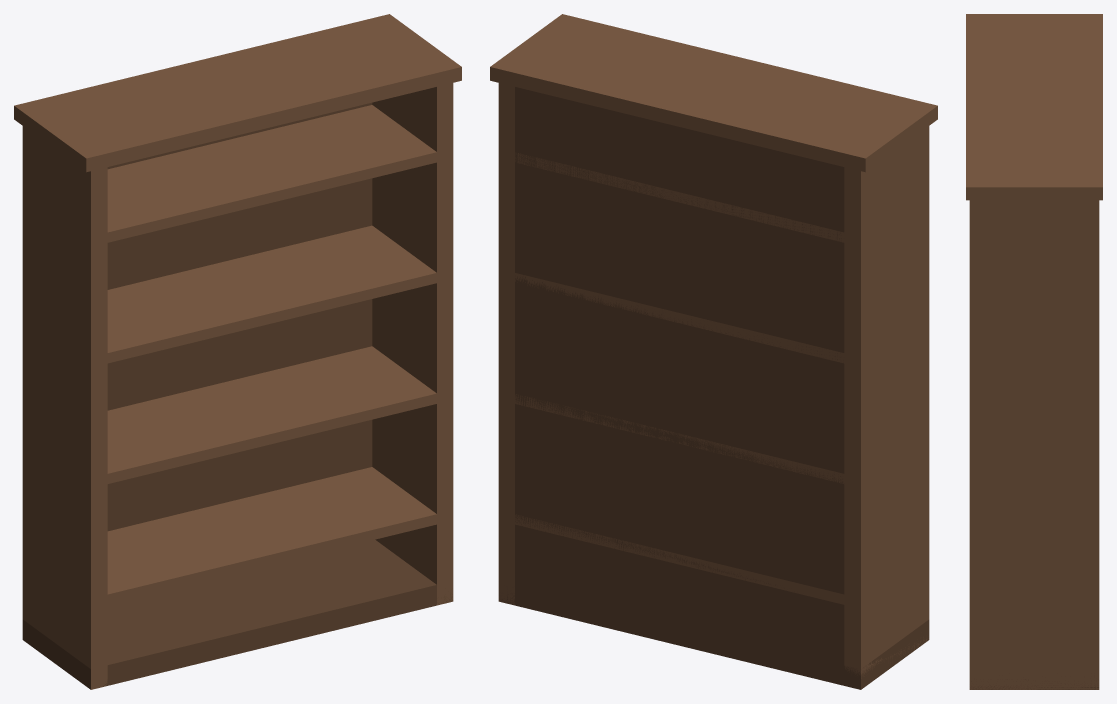
Rendered from cab_weapon_rack.glb.
3 views of the same model, side by side, from view 1: azimuth 30°, elevation 25°; view 2: azimuth 150°, elevation 25°; view 3: azimuth 270°, elevation 25° (orthographic). The views are drawn at different scales.
Parts seen in each view (by area): view 1: cab_weapon_rack; view 2: cab_weapon_rack; view 3: cab_weapon_rack.
Boxes of the visible parts, left/top/right/bottom form: cab_weapon_rack: left=14, top=14, right=461, bottom=689; cab_weapon_rack: left=490, top=14, right=937, bottom=689; cab_weapon_rack: left=966, top=14, right=1102, bottom=689.
Bounding box in the file's own units: 1.14 × 1.55 × 0.38.
